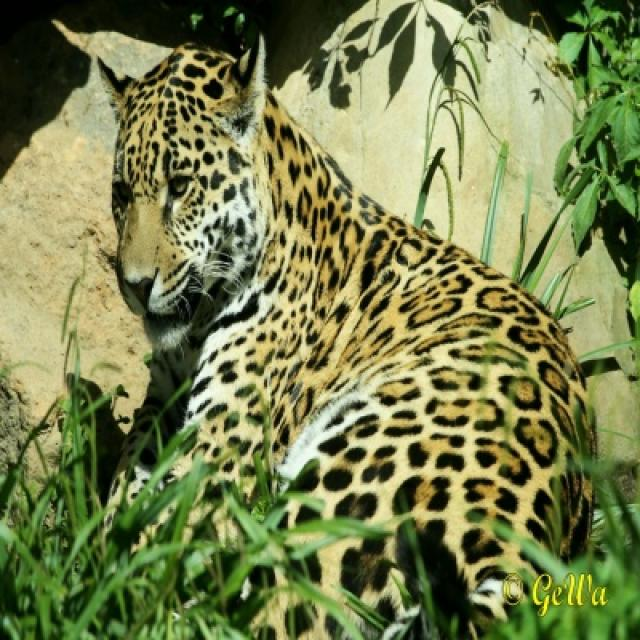Jaguar: (96, 34, 598, 638)
